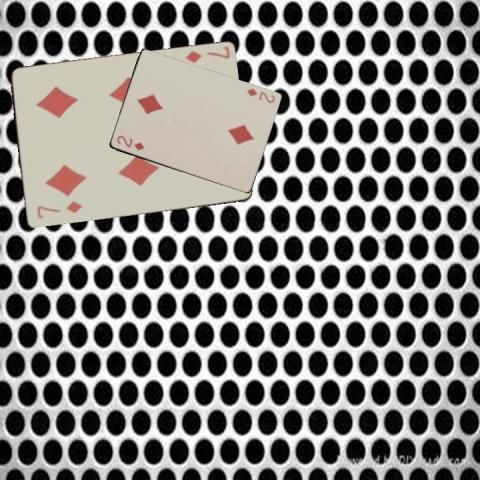2d: (243, 85, 276, 105), (114, 133, 146, 151)
7d: (34, 198, 84, 220), (182, 43, 231, 65)
